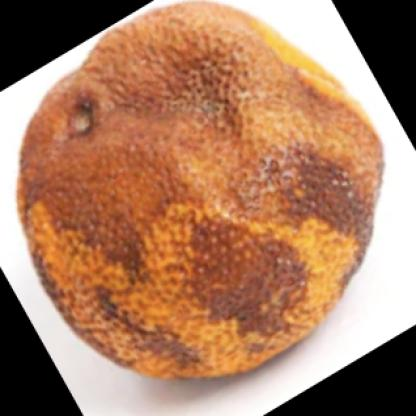rotten: (17, 4, 385, 380)
